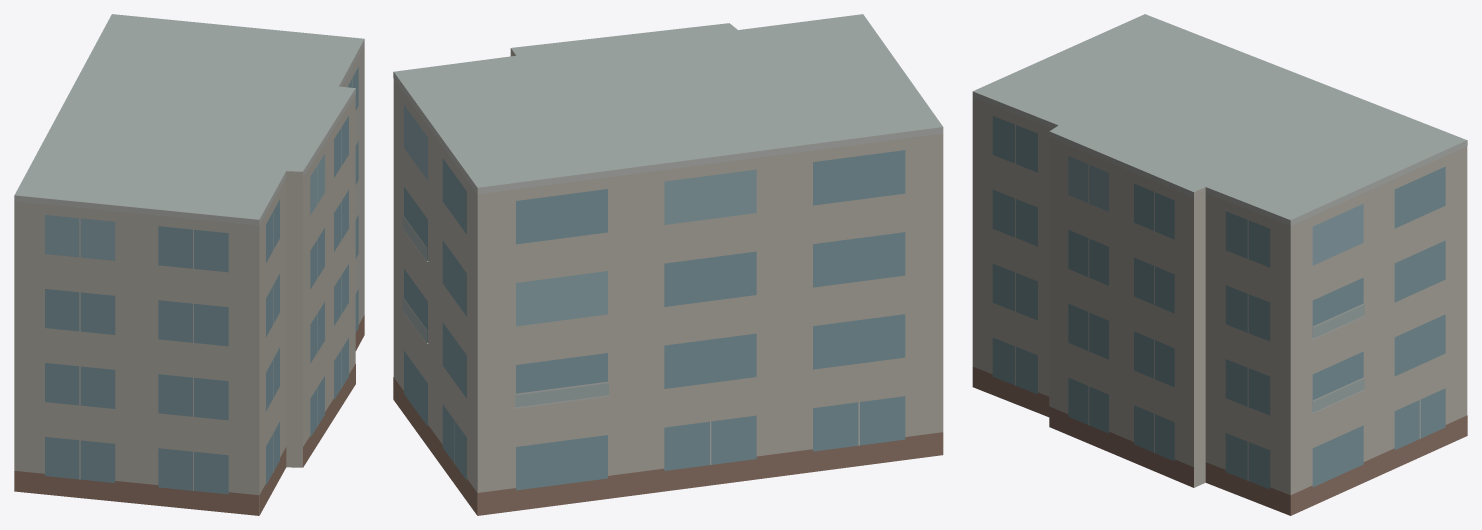
The model's file is survey-upis-32706009.glb.
3 renders of one model, left to right at view 1: azimuth 30°, elevation 25°; view 2: azimuth 150°, elevation 25°; view 3: azimuth 270°, elevation 25°, orthographic. The views are drawn at different scales.
Visible parts, largest first — view 1: survey-upis-32706009.tmp; view 2: survey-upis-32706009.tmp; view 3: survey-upis-32706009.tmp.
Part boxes in pixels (<box>): survey-upis-32706009.tmp: <box>14,14,364,515</box>; survey-upis-32706009.tmp: <box>393,14,943,515</box>; survey-upis-32706009.tmp: <box>972,14,1467,515</box>.
Size of the model in its own units: 18.26 by 12.2 by 18.51.
